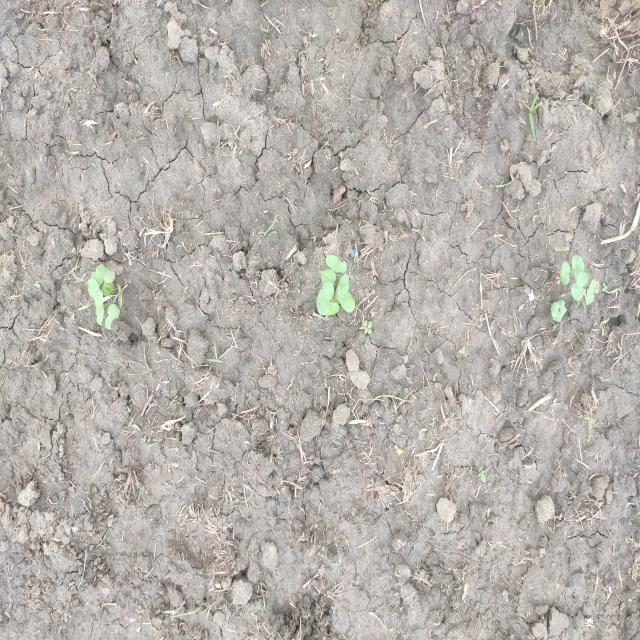seedling: (316, 282, 334, 315), (338, 284, 355, 313), (571, 272, 588, 301), (88, 279, 103, 309), (105, 304, 120, 330), (326, 255, 347, 273), (96, 264, 115, 283), (318, 269, 336, 285), (572, 255, 584, 279), (586, 279, 597, 305), (560, 261, 570, 285), (325, 301, 339, 317), (551, 301, 561, 322), (91, 271, 103, 286), (557, 300, 567, 318), (96, 304, 104, 324), (102, 282, 113, 296), (339, 273, 349, 288)
